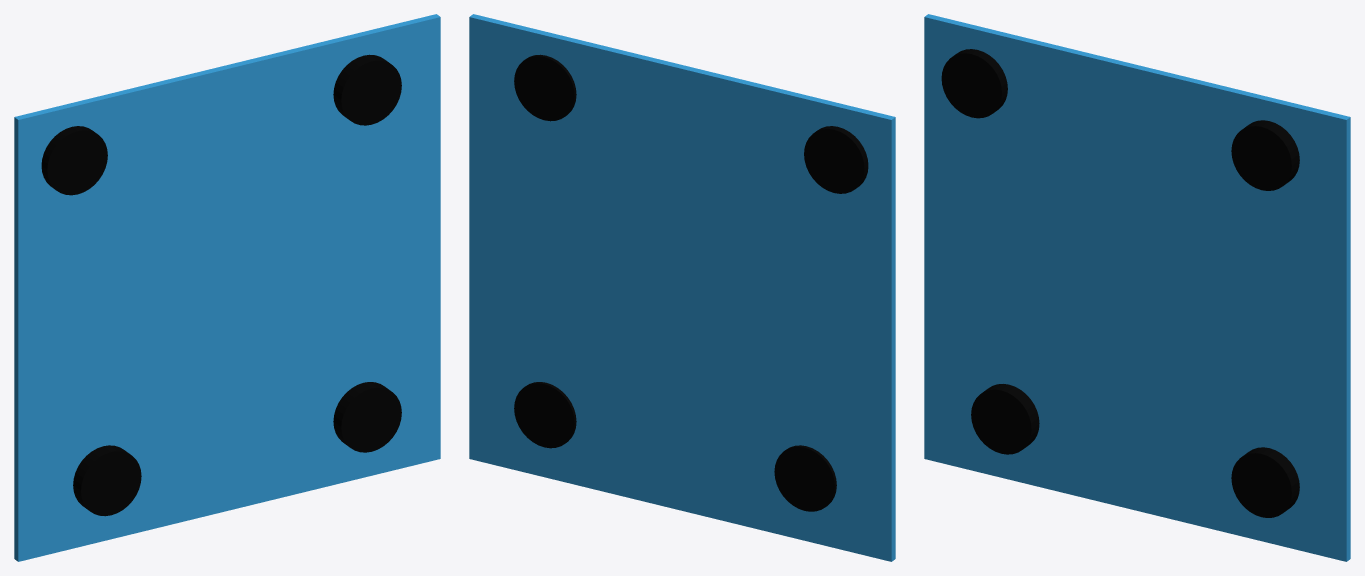
File: board.fbx
3 renders of one model, left to right at view 1: azimuth 30°, elevation 25°; view 2: azimuth 150°, elevation 25°; view 3: azimuth 330°, elevation 25°, orthographic.
Visible parts, largest first — view 1: board, nail2, nail3, nail4, nail1; view 2: board, nail1, nail4, nail2, nail3; view 3: board, nail2, nail3, nail4, nail1.
Part boxes in pixels (x1,y1,x2,y2): board: (14,14,440,561); nail2: (333,54,401,125); nail3: (333,382,401,452); nail4: (73,445,141,516); nail1: (41,126,107,195); board: (469,14,895,561); nail1: (804,126,868,193); nail4: (774,445,836,511); nail2: (514,54,576,121); nail3: (514,382,576,448); board: (924,14,1350,561); nail2: (1231,120,1299,190); nail3: (1231,447,1299,517); nail4: (971,384,1039,454); nail1: (941,49,1007,118).
Bounding box in the file's own units: 63.66 × 63.66 × 4.16.
